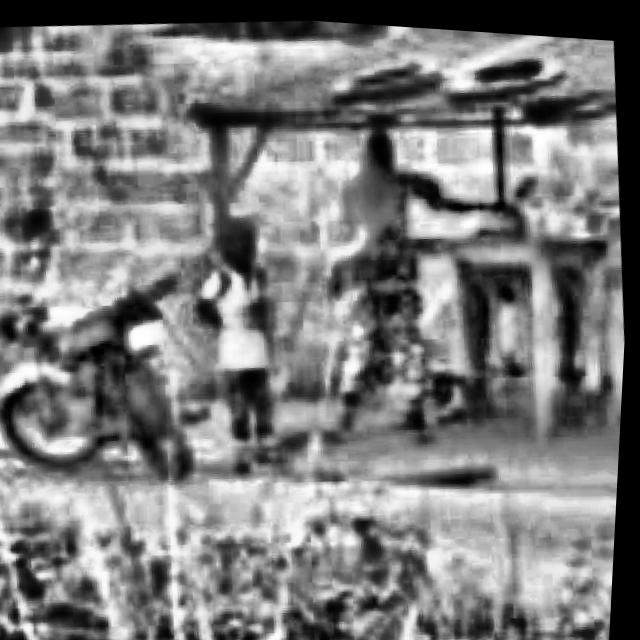motorcycle: (0, 197, 217, 519)
